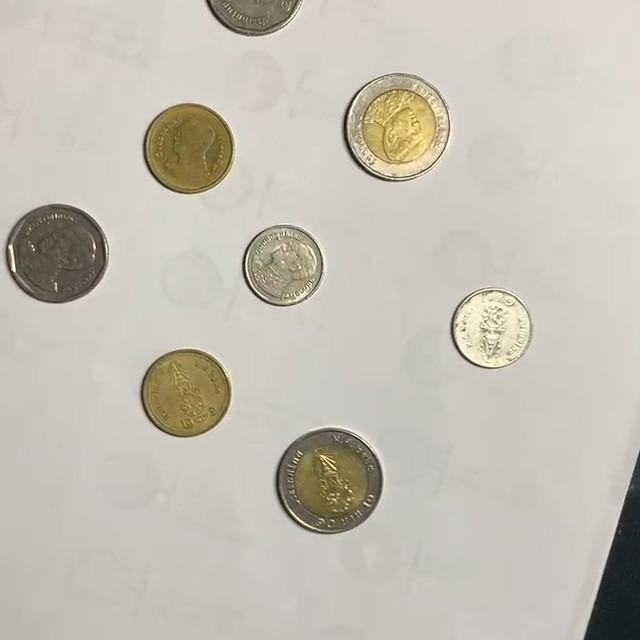1-baht: (452, 288, 536, 370), (243, 225, 325, 307)
10-baht: (345, 72, 453, 181), (277, 429, 383, 534)
2-baht: (144, 102, 237, 194), (141, 349, 232, 438)
5-baht: (5, 203, 110, 304), (203, 0, 306, 37)
